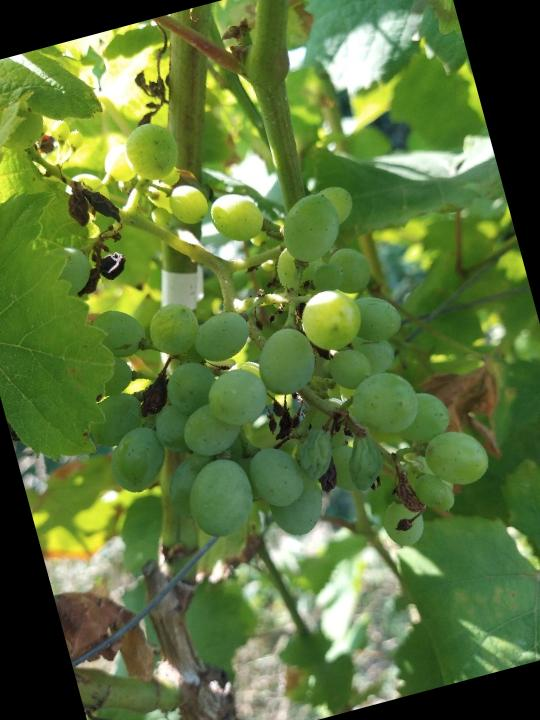grape: (16, 59, 507, 621)
